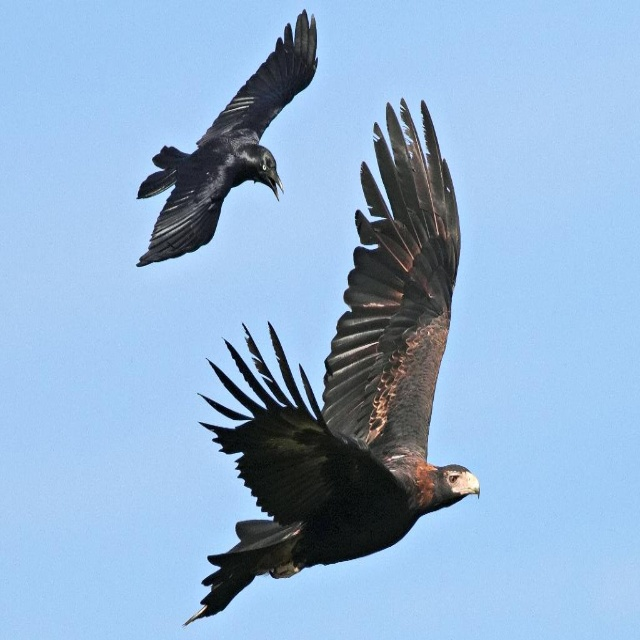Eagle: (177, 90, 484, 632), (134, 1, 325, 277)
